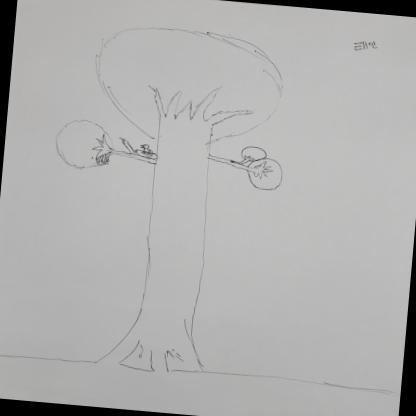bird: (134, 140, 160, 162)
branch_sharp: (140, 72, 260, 129)
crown_mushroom: (90, 17, 291, 148)
root_none: (76, 328, 235, 396)
trunk_straight: (135, 190, 219, 312)
